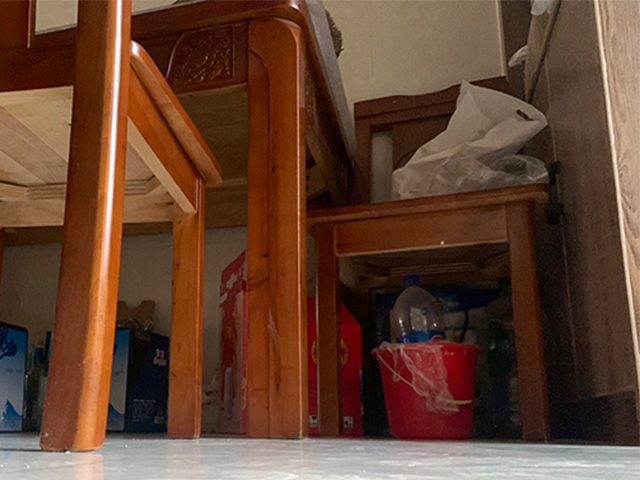stool: (1, 1, 223, 452), (304, 70, 556, 441)
